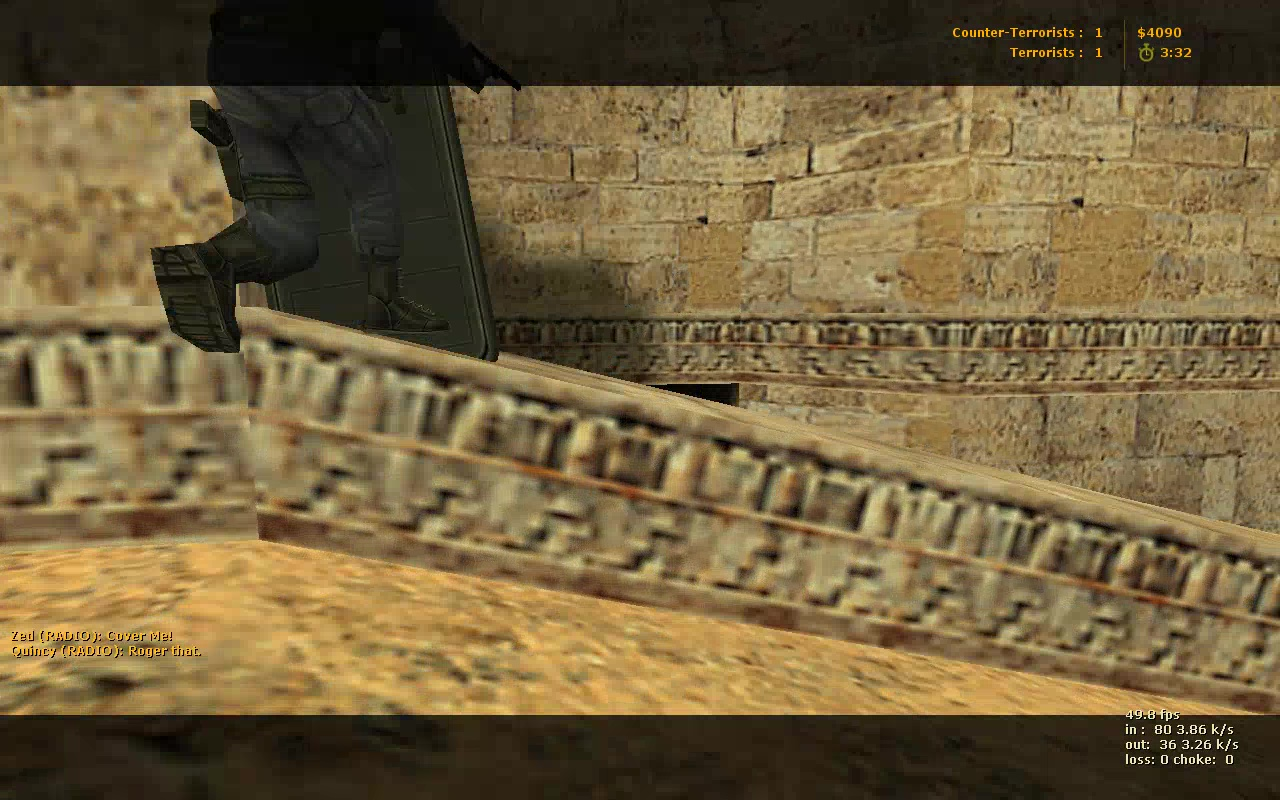ct: (154, 1, 497, 370)
